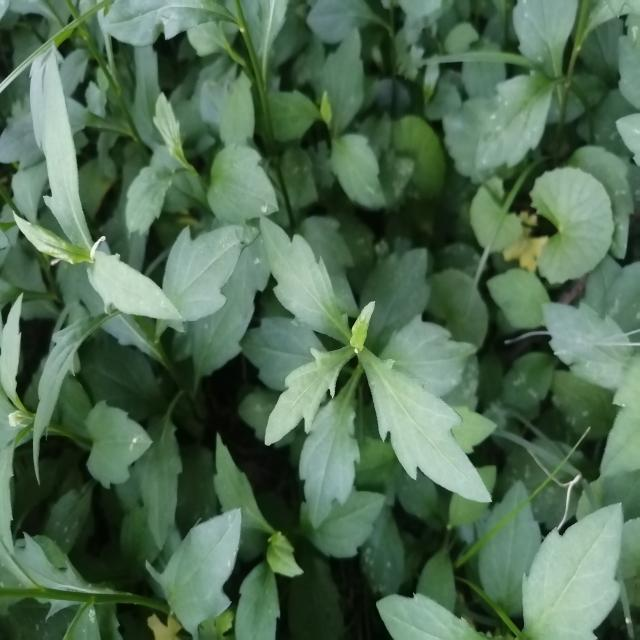Indian aster: (232, 208, 476, 536), (0, 63, 213, 396)
